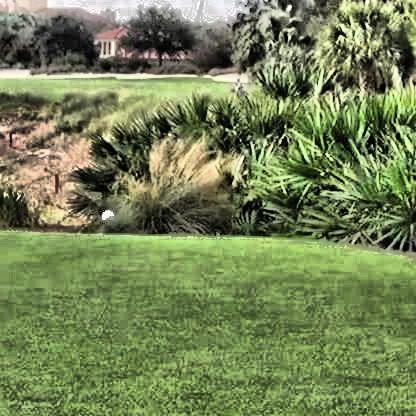golfball: (98, 207, 112, 223)
